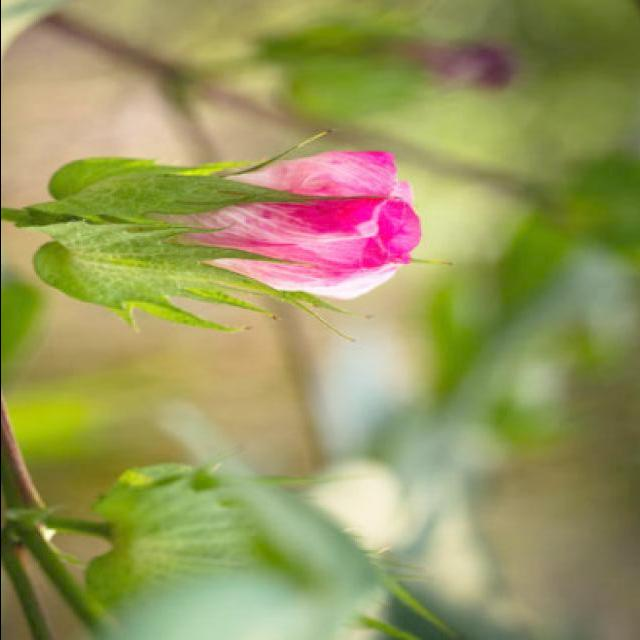Cotton Blossom: (7, 141, 433, 339)
